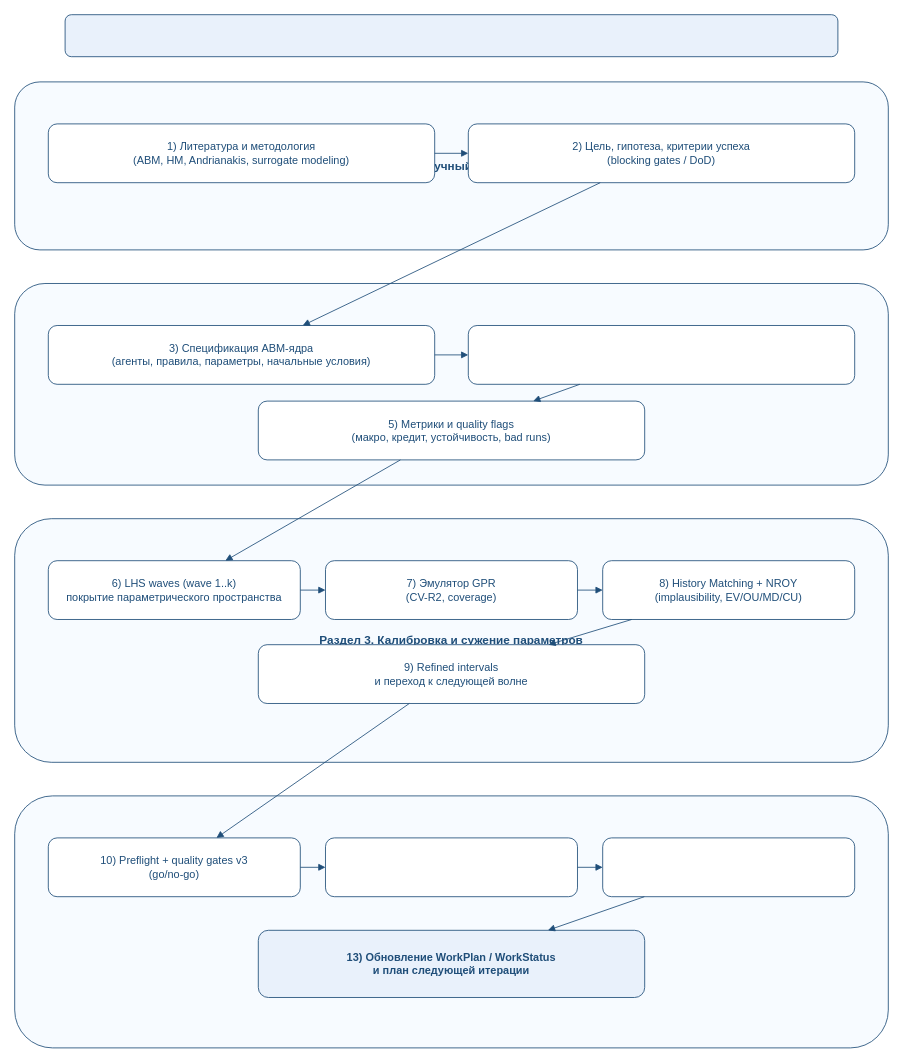
Image size: 903x1063. Some labels were removed from this diagram. Each missing label, with the box of its shape:
11) Full-run + R1/R2/R3 + confirmatory checks: (325, 837, 578, 897)
12) Scientific verdict (что прошло/не прошло и почему): (602, 837, 855, 897)
4) ABM-прогоны и сбор синтетики (multi-seed trajectories): (467, 325, 855, 384)
ABM Research Pipeline (Sectioned Simple View): (64, 14, 838, 57)
Раздел 2. Модель и данные: (14, 283, 888, 485)
Раздел 4. Кампании и результаты: (14, 795, 888, 1048)
